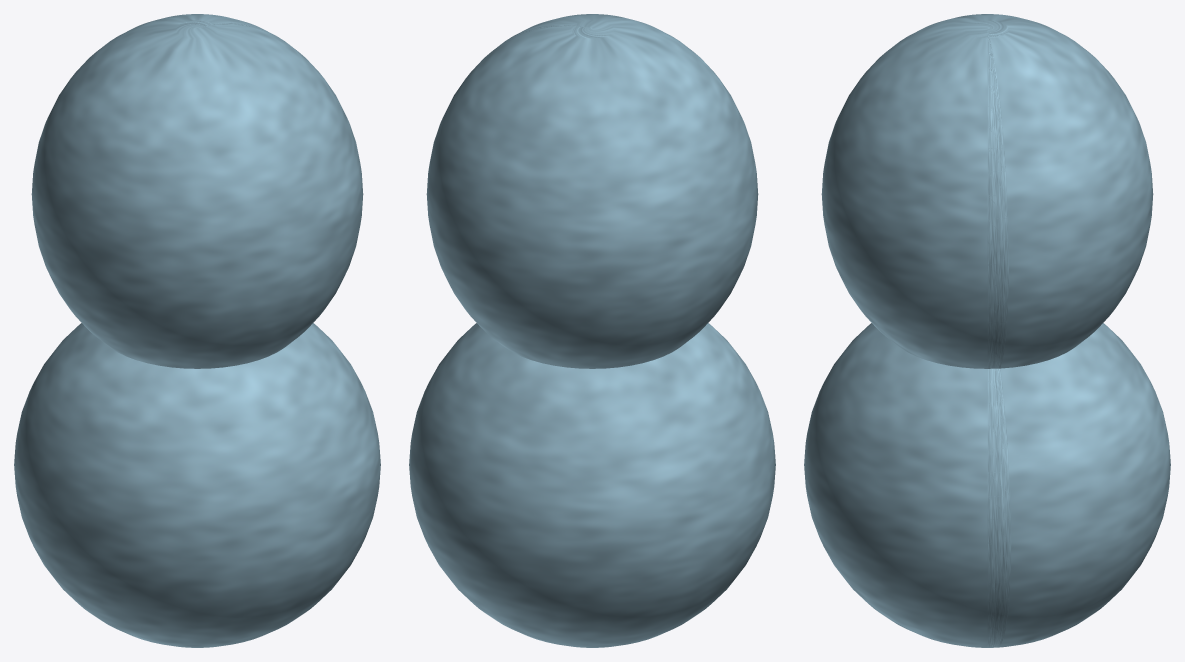
The model's file is complete.glb.
The picture shows the model from 3 angles, left to right: view 1: azimuth 30°, elevation 25°; view 2: azimuth 150°, elevation 25°; view 3: azimuth 270°, elevation 25°; orthographic projection.
Visible parts, largest first — view 1: capsula_bacteriana_mesh; view 2: capsula_bacteriana_mesh; view 3: capsula_bacteriana_mesh.
Part boxes in pixels (x1,y1,x2,y2): capsula_bacteriana_mesh: [14, 14, 380, 647]; capsula_bacteriana_mesh: [409, 14, 775, 647]; capsula_bacteriana_mesh: [804, 14, 1170, 647].
Bounding box in the file's own units: 1.66 × 3.01 × 1.66.
6 materials, 6 textured.
